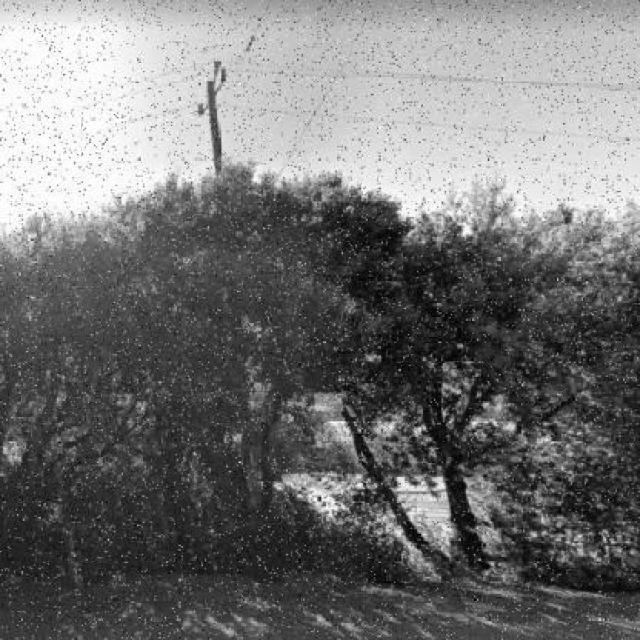pole: (168, 25, 284, 583)
